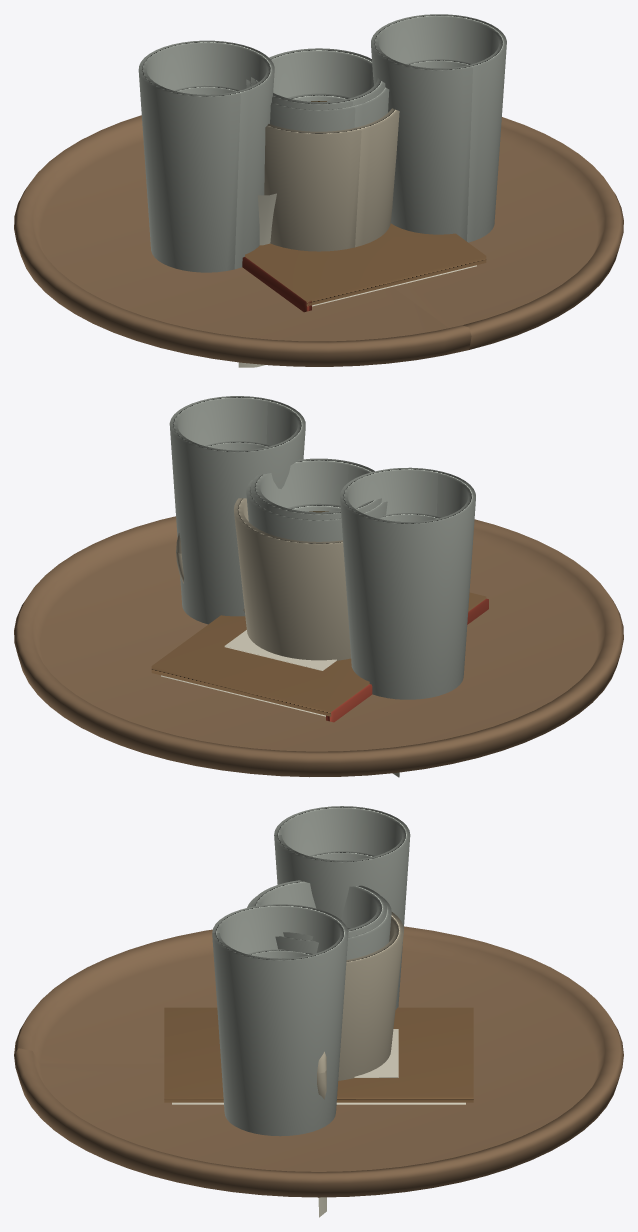
The model's file is pub-quest-props.glb.
The picture shows the model from 3 angles, top to bottom: view 1: azimuth 30°, elevation 25°; view 2: azimuth 150°, elevation 25°; view 3: azimuth 270°, elevation 25°; orthographic projection.
Visible parts, largest first — view 1: pub_service_tray_loaded, pub_service_tray_empty, pub_held_mug, pub_order_book, pub_service_empty_glass, pub_held_pint, pub_polishing_cloth; view 2: pub_service_tray_loaded, pub_service_tray_empty, pub_held_mug, pub_order_book, pub_service_empty_glass, pub_held_pint; view 3: pub_service_tray_loaded, pub_service_tray_empty, pub_order_book, pub_held_mug, pub_service_empty_glass, pub_held_pint.
Part boxes in pixels (<box>): pub_service_tray_loaded: <box>14,59,623,366</box>; pub_service_tray_empty: <box>138,14,506,272</box>; pub_held_mug: <box>264,108,399,251</box>; pub_order_book: <box>242,223,486,312</box>; pub_service_empty_glass: <box>251,48,385,109</box>; pub_held_pint: <box>246,79,389,131</box>; pub_polishing_cloth: <box>238,193,276,367</box>; pub_service_tray_loaded: <box>14,441,623,777</box>; pub_service_tray_empty: <box>169,396,475,699</box>; pub_held_mug: <box>176,498,350,660</box>; pub_order_book: <box>151,592,488,722</box>; pub_service_empty_glass: <box>251,458,381,520</box>; pub_held_pint: <box>246,480,387,541</box>; pub_service_tray_loaded: <box>14,851,623,1197</box>; pub_service_tray_empty: <box>212,806,410,1136</box>; pub_order_book: <box>164,1007,473,1104</box>; pub_held_mug: <box>317,912,403,1099</box>; pub_service_empty_glass: <box>251,880,386,940</box>; pub_held_pint: <box>247,897,391,959</box>.
Bounding box in the file's own units: 0.394 × 0.21 × 0.394.
